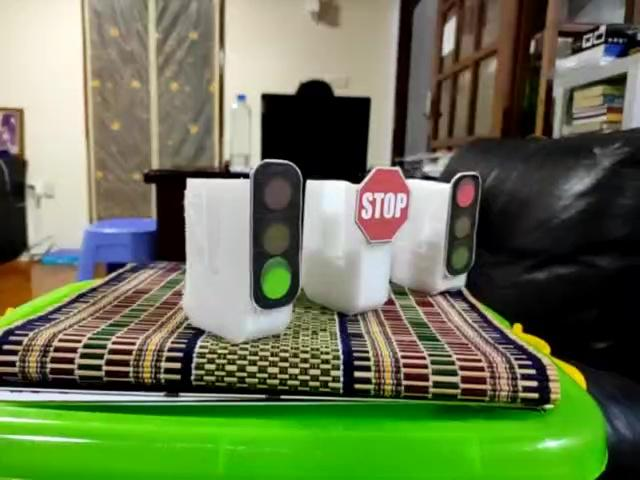Green Traffic Light: (248, 159, 304, 310)
Red Traffic Light: (443, 173, 480, 274)
Stop Sign: (353, 163, 412, 245)
